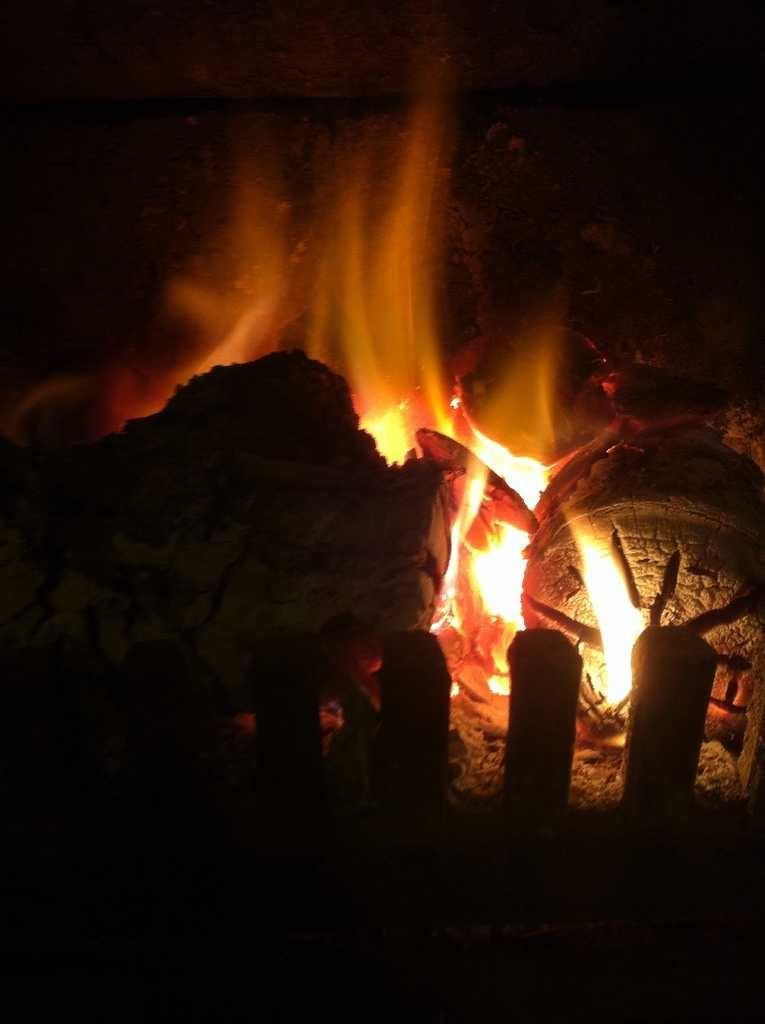fire: (590, 542, 642, 692), (480, 535, 528, 615), (372, 400, 412, 455)
